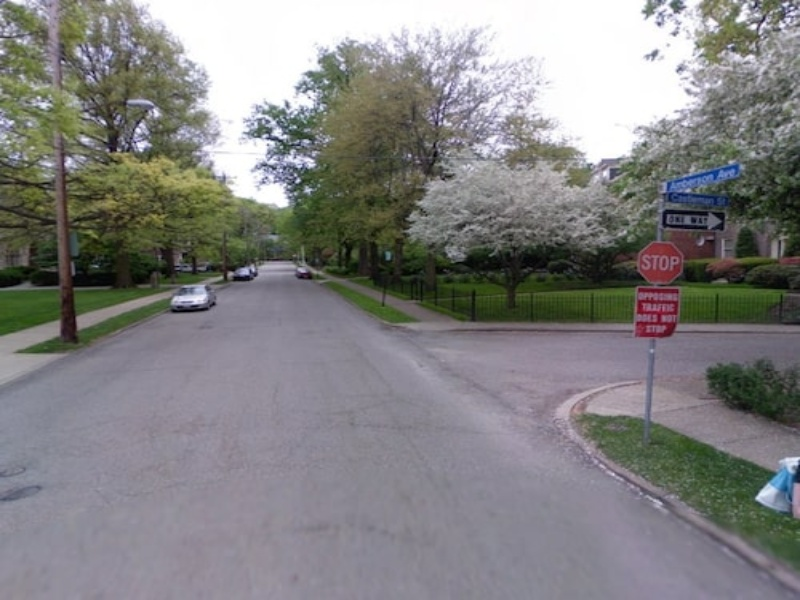stop sign: (633, 240, 688, 288)
